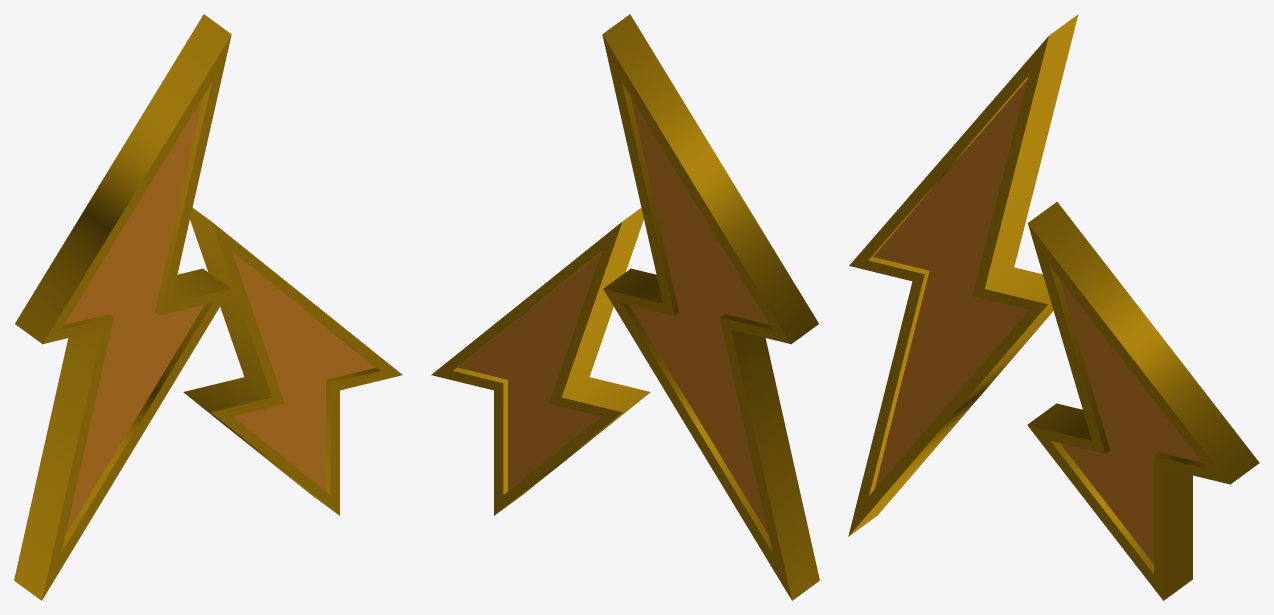
The model's file is thunderstorm.glb.
3 views of the same model, side by side, from view 1: azimuth 30°, elevation 25°; view 2: azimuth 150°, elevation 25°; view 3: azimuth 330°, elevation 25° (orthographic). The views are drawn at different scales.
Parts seen in each view (by area): view 1: thunderstorm; view 2: thunderstorm; view 3: thunderstorm.
Boxes of the visible parts, x1,y1,x2,y2 form: thunderstorm: (14, 14, 402, 600); thunderstorm: (431, 14, 819, 600); thunderstorm: (848, 14, 1259, 600).
Bounding box in the file's own units: 1.35 × 1.86 × 0.18.
